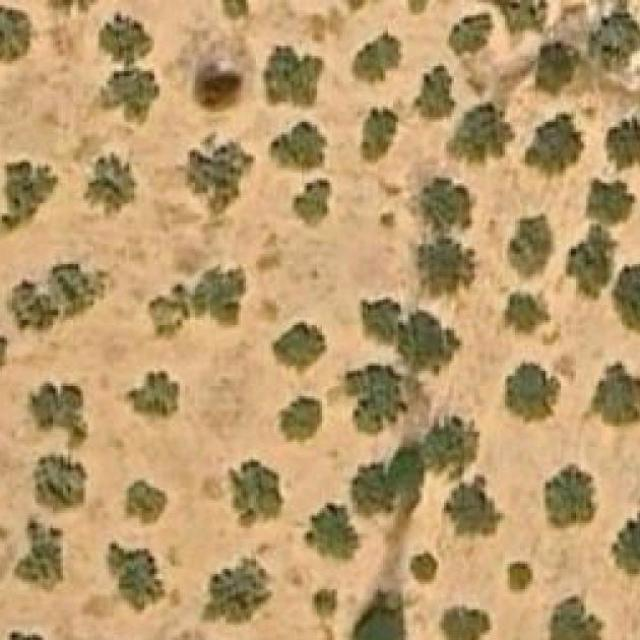Tree: (149, 264, 246, 338), (188, 132, 254, 216), (202, 558, 271, 624), (346, 360, 406, 434), (0, 160, 58, 234), (14, 513, 63, 592), (228, 459, 284, 528), (525, 115, 584, 179), (452, 104, 518, 160), (261, 46, 322, 106), (398, 315, 459, 374), (32, 452, 88, 516), (109, 544, 162, 610), (304, 503, 366, 559), (505, 364, 561, 424), (83, 152, 137, 214), (418, 236, 474, 292), (99, 71, 160, 122), (566, 228, 609, 300), (447, 478, 501, 534), (268, 122, 327, 173), (422, 178, 476, 232), (383, 442, 431, 502), (51, 257, 104, 311), (593, 364, 640, 424), (536, 44, 592, 94), (546, 468, 594, 526), (508, 216, 552, 278), (350, 34, 404, 84), (30, 383, 84, 432), (591, 13, 640, 67), (129, 371, 180, 422), (271, 323, 327, 369), (542, 596, 600, 640), (101, 12, 152, 61), (418, 422, 472, 467), (349, 596, 404, 640), (414, 64, 457, 120), (195, 63, 244, 112), (276, 396, 322, 445), (0, 5, 38, 64), (7, 280, 51, 330), (358, 294, 401, 344), (360, 106, 398, 162), (589, 178, 633, 226), (611, 508, 640, 579), (449, 10, 493, 54), (614, 259, 640, 333), (606, 116, 640, 170), (292, 180, 330, 228), (127, 481, 168, 524), (353, 467, 388, 516), (438, 606, 488, 640), (505, 295, 548, 333), (408, 552, 439, 585), (508, 562, 533, 592), (312, 589, 337, 615), (223, 0, 248, 18), (0, 310, 7, 371), (0, 632, 51, 640), (408, 0, 429, 15)
